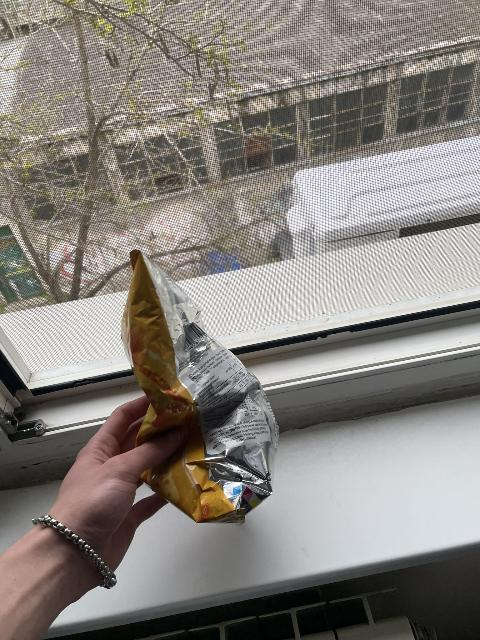Chio Hula Hoops Cheese 70g: (115, 250, 274, 525)
